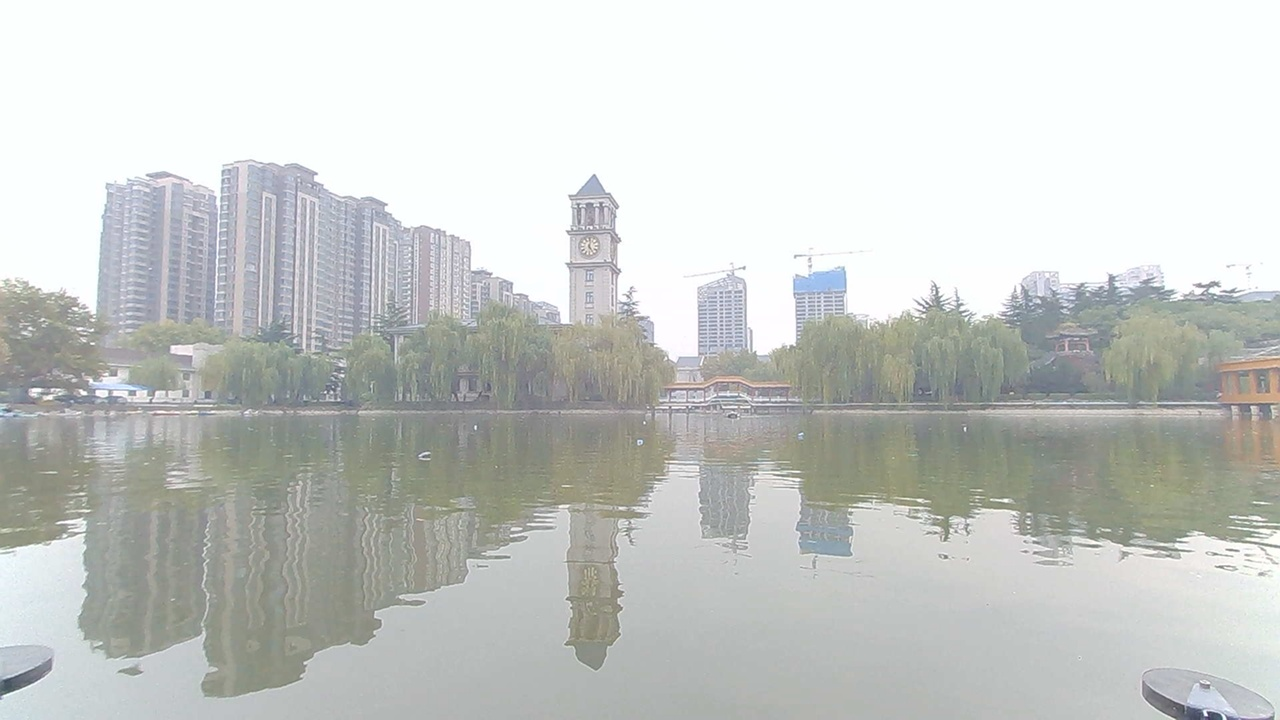bottle: (406, 442, 443, 471), (455, 413, 492, 442), (783, 420, 817, 447), (950, 416, 980, 442), (621, 433, 658, 454), (630, 411, 659, 433)
